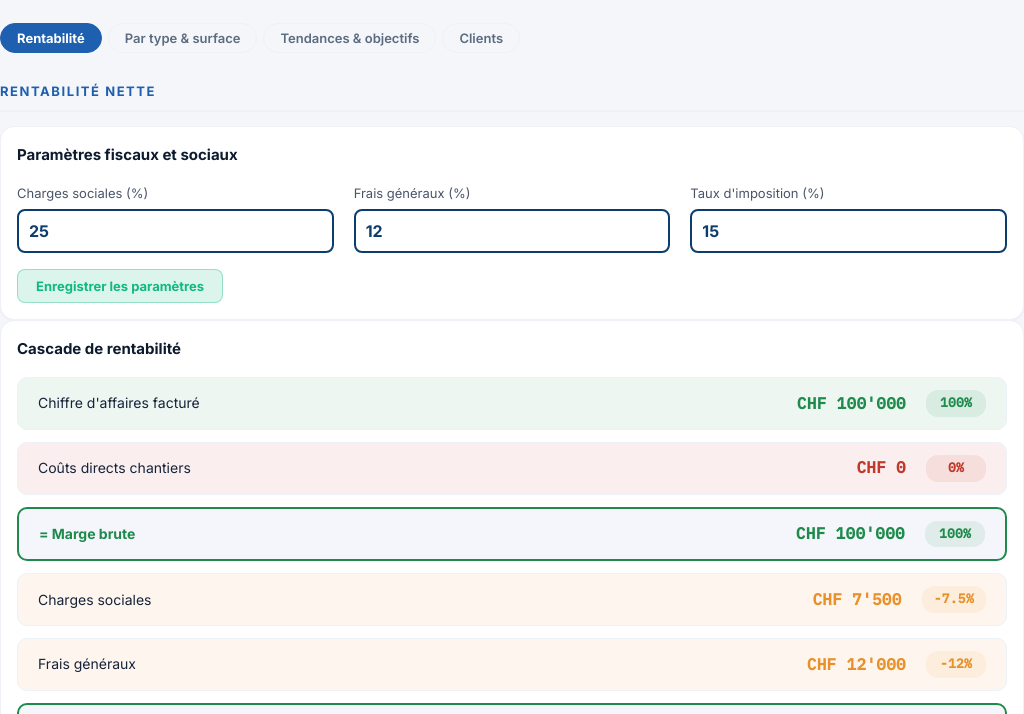
Test: CLIENTS — CA FACTURÉ HT (pas devisé), client sans facture exclu › « Top clients par CA facturé » = 100'000 (facturé), pas 120'000 (devisé) ; Tech Park sans facture exclu
Click the button "Clients". click: (481, 38)
box: x1=442 y1=23 x2=520 y2=53
(page scrolled)
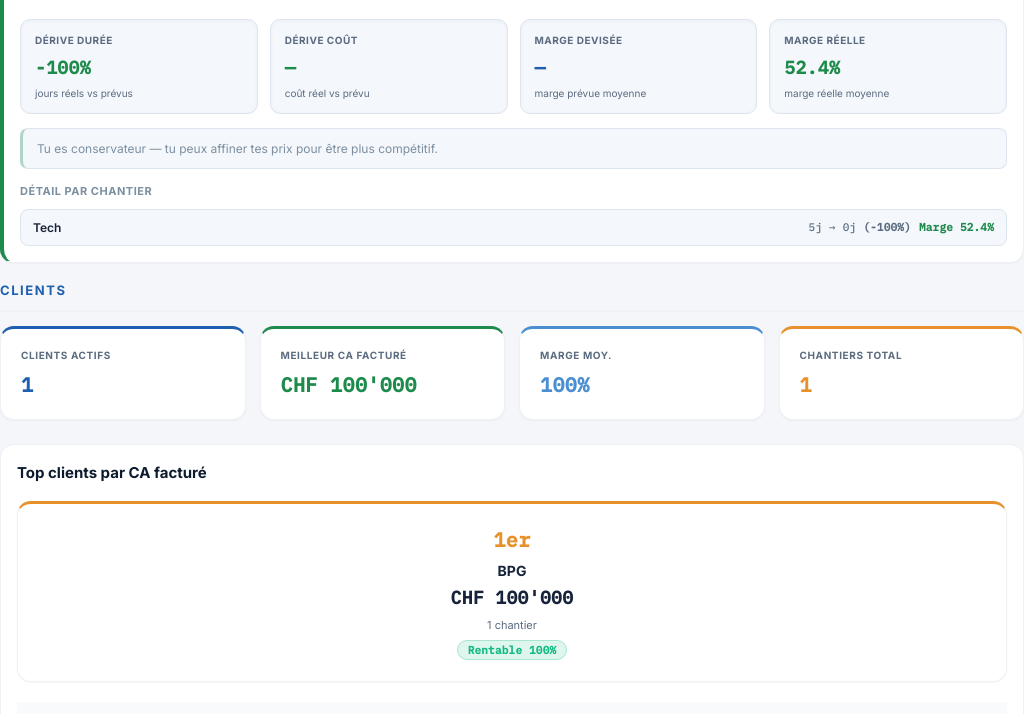
Expected: the text "Meilleur CA facturé" is shown, x1=280 y1=349 x2=407 y2=361
